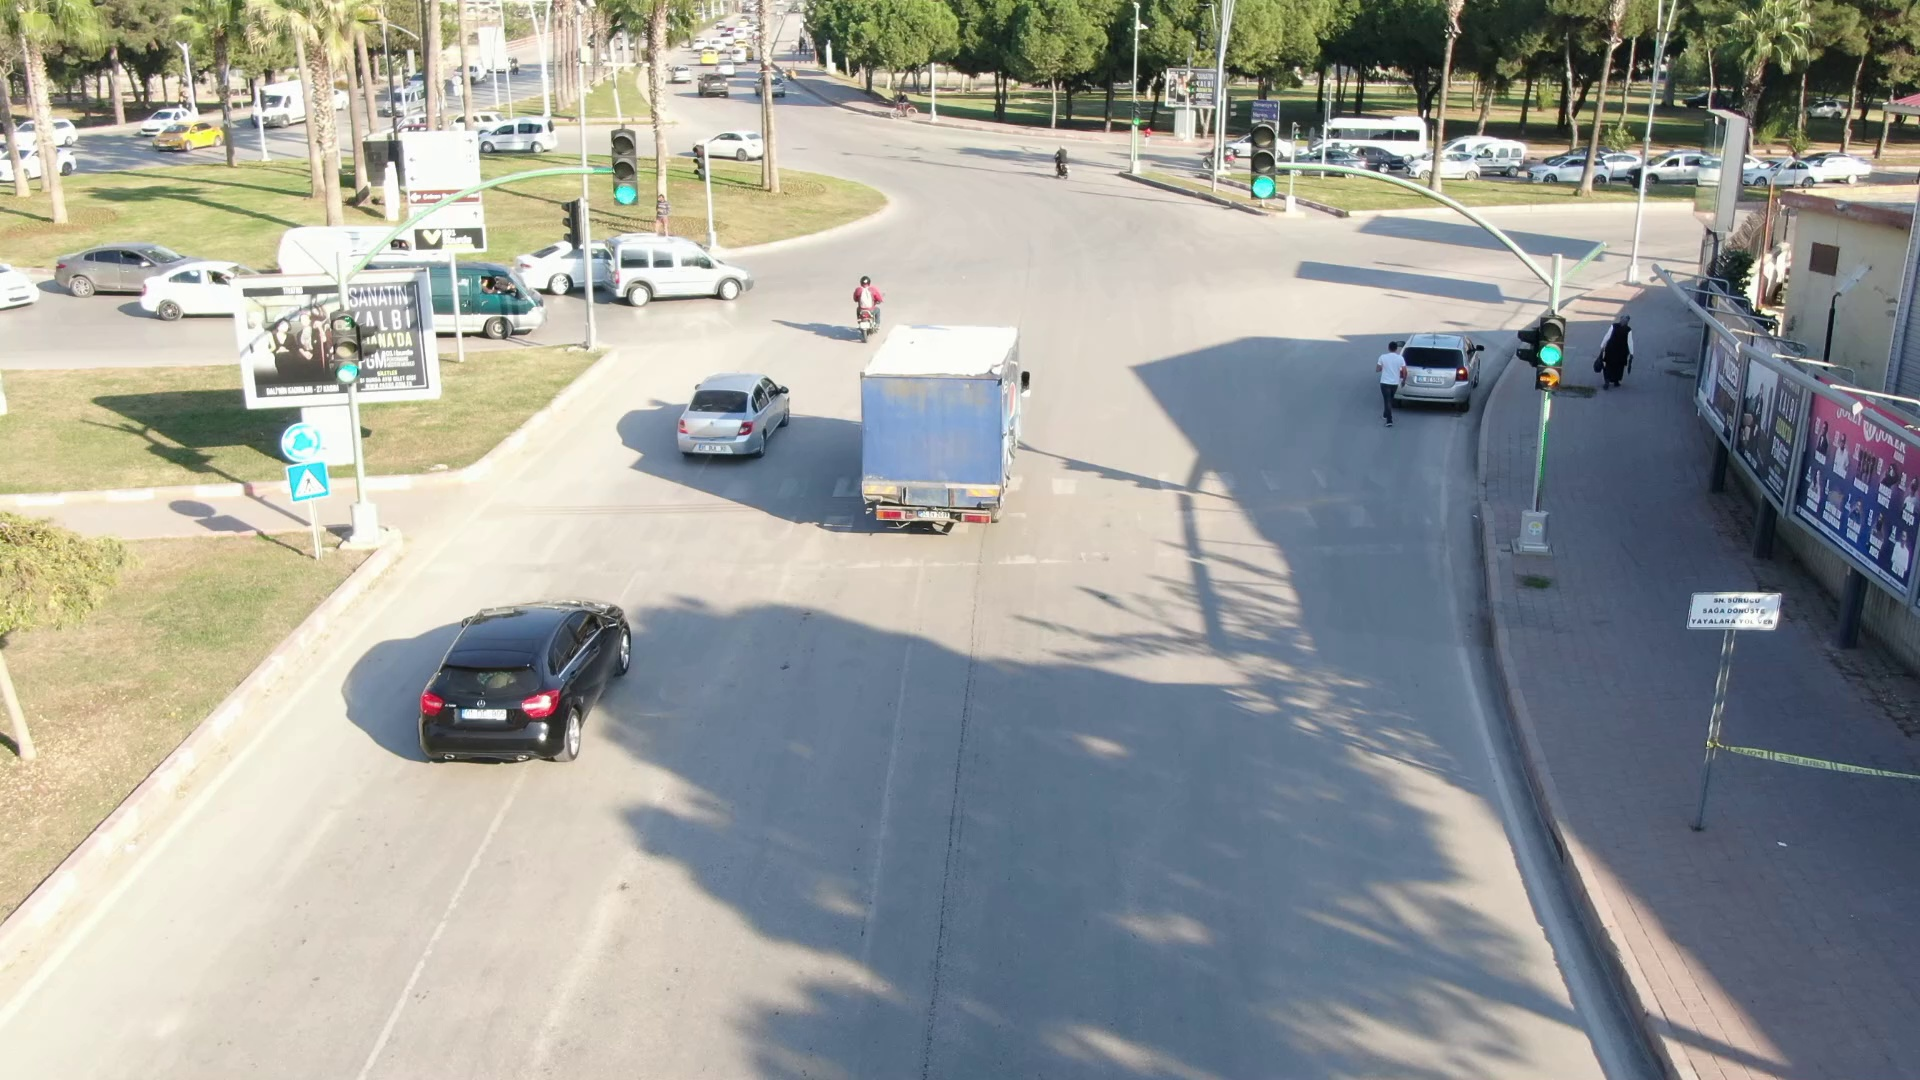car: (411, 581, 651, 783), (665, 356, 802, 475), (594, 224, 762, 306), (47, 237, 193, 308), (472, 110, 572, 156), (139, 110, 228, 157), (689, 125, 789, 167)
person: (1587, 302, 1644, 393), (1363, 335, 1413, 432)
